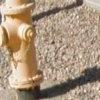Hydrant: (2, 2, 55, 98)
